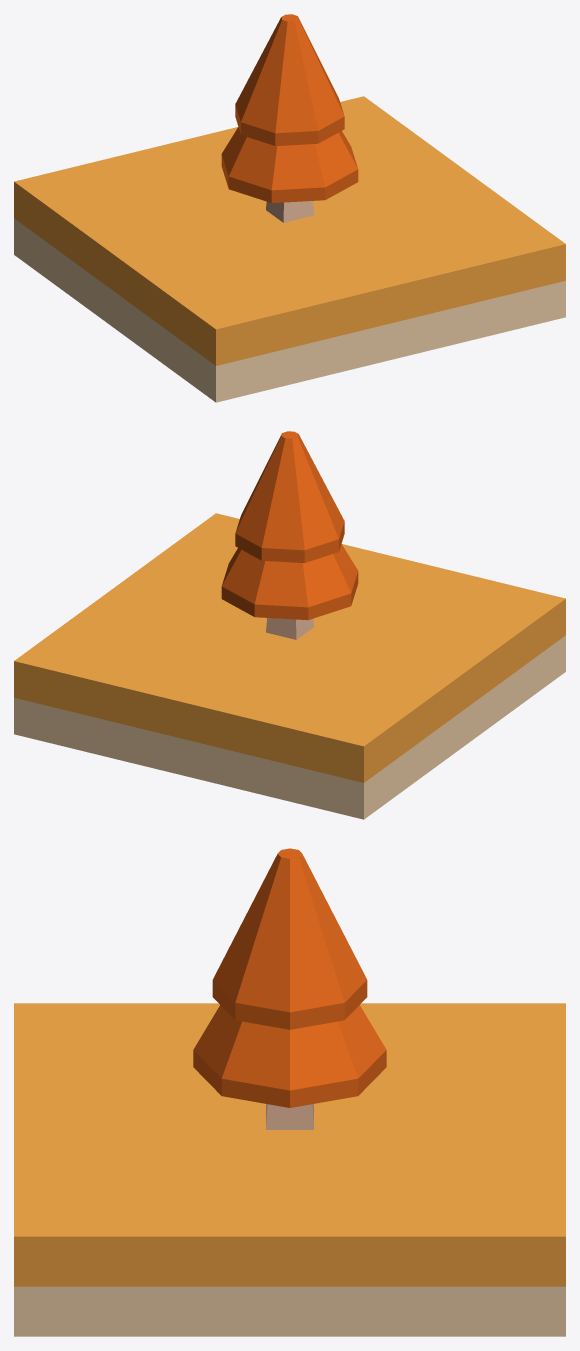
The model's file is autumn_tile_tree.fbx.
3 renders of one model, top to bottom at view 1: azimuth 30°, elevation 25°; view 2: azimuth 150°, elevation 25°; view 3: azimuth 270°, elevation 25°, orthographic. The views are drawn at different scales.
Visible parts, largest first — view 1: tile, detail_tree; view 2: tile, detail_tree; view 3: tile, detail_tree.
Boxes of the visible parts, x1,y1,x2,y2 form: tile: (14,96,565,402); detail_tree: (221,14,358,222); tile: (14,513,565,819); detail_tree: (221,431,358,639); tile: (14,1003,565,1336); detail_tree: (193,848,386,1129).
Size of the model in its own units: 100 by 73.21 by 100.
